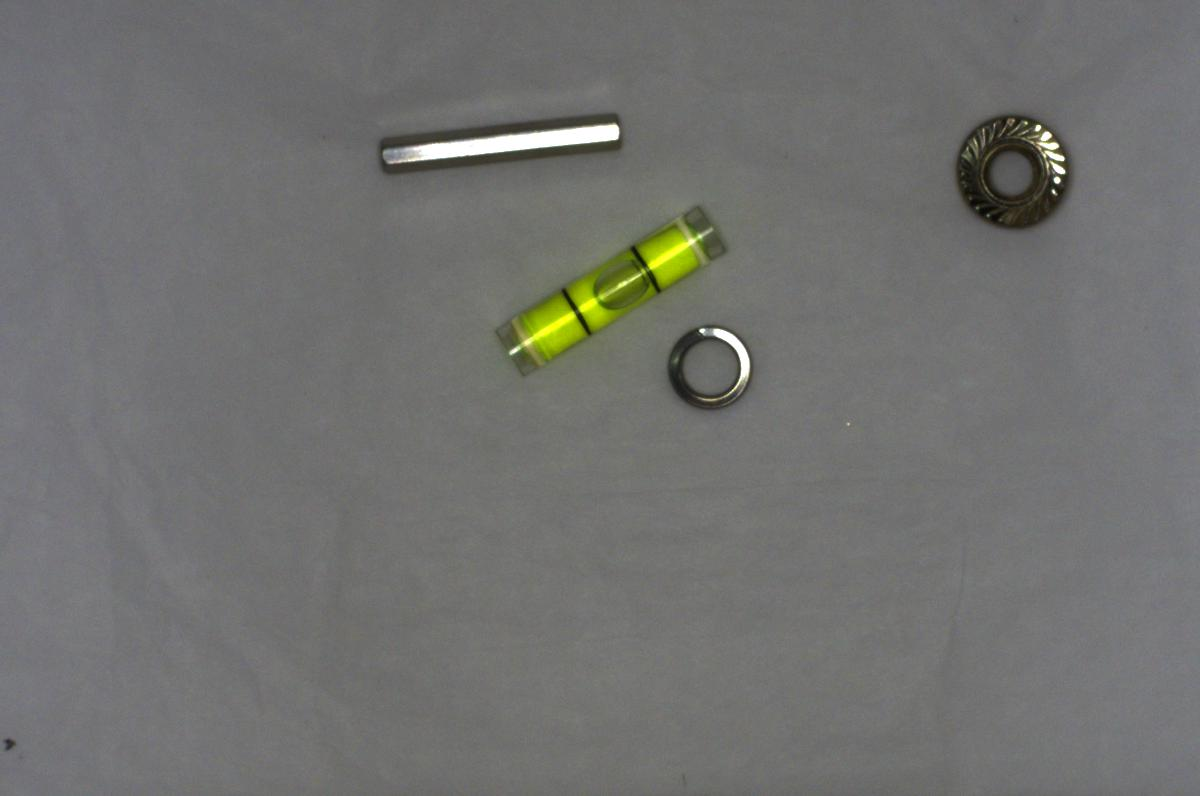Double hexagonal column: (362, 109, 628, 176)
Flange nut: (947, 103, 1075, 241)
Horizontal bubble: (495, 200, 728, 383)
Spring washer: (662, 318, 754, 419)
